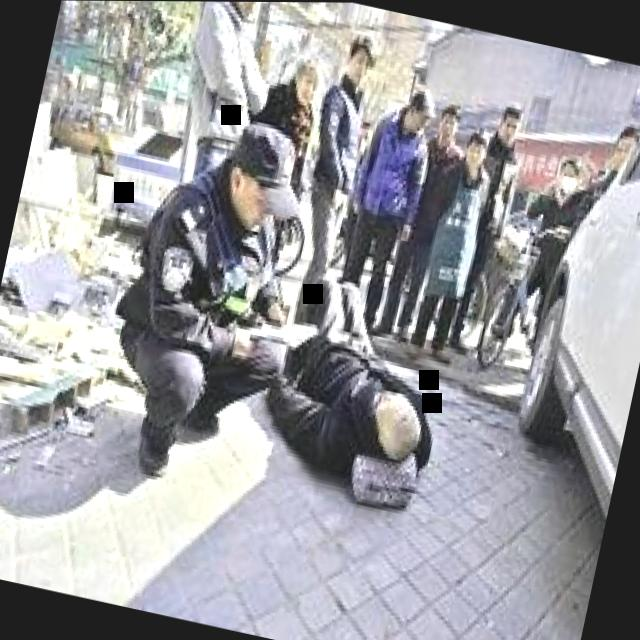Fall-Detected: (240, 245, 477, 522)
